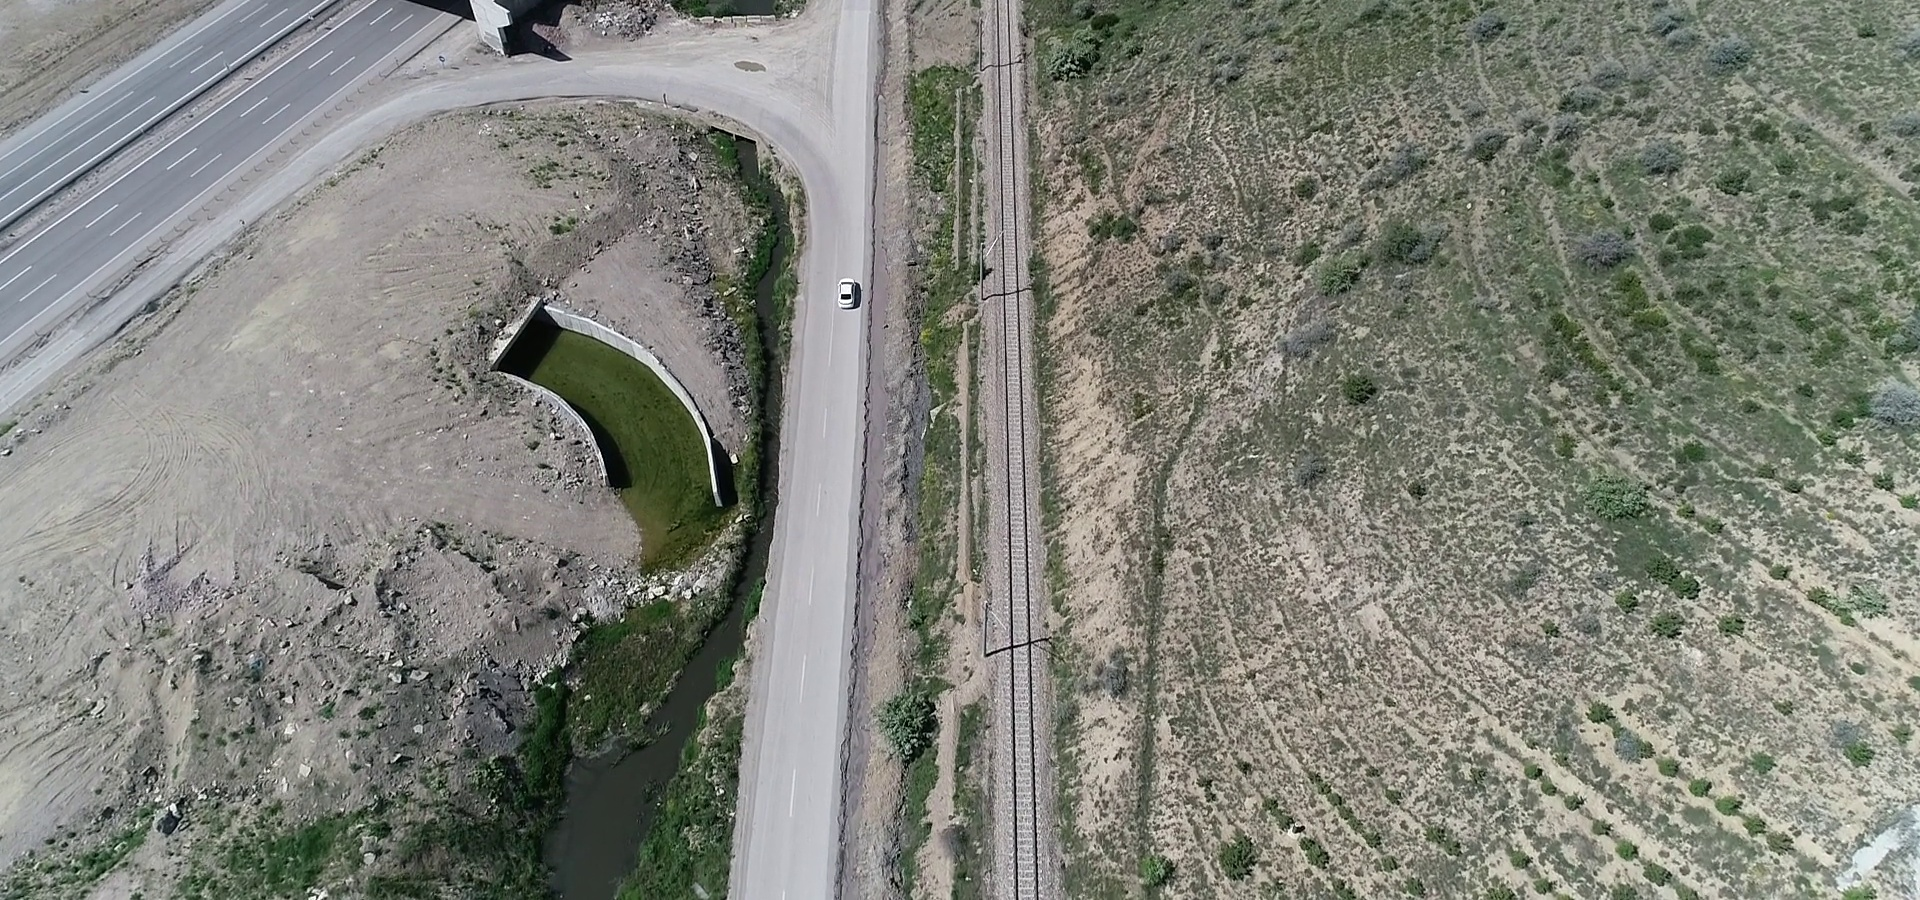araba: (833, 274, 866, 315)
